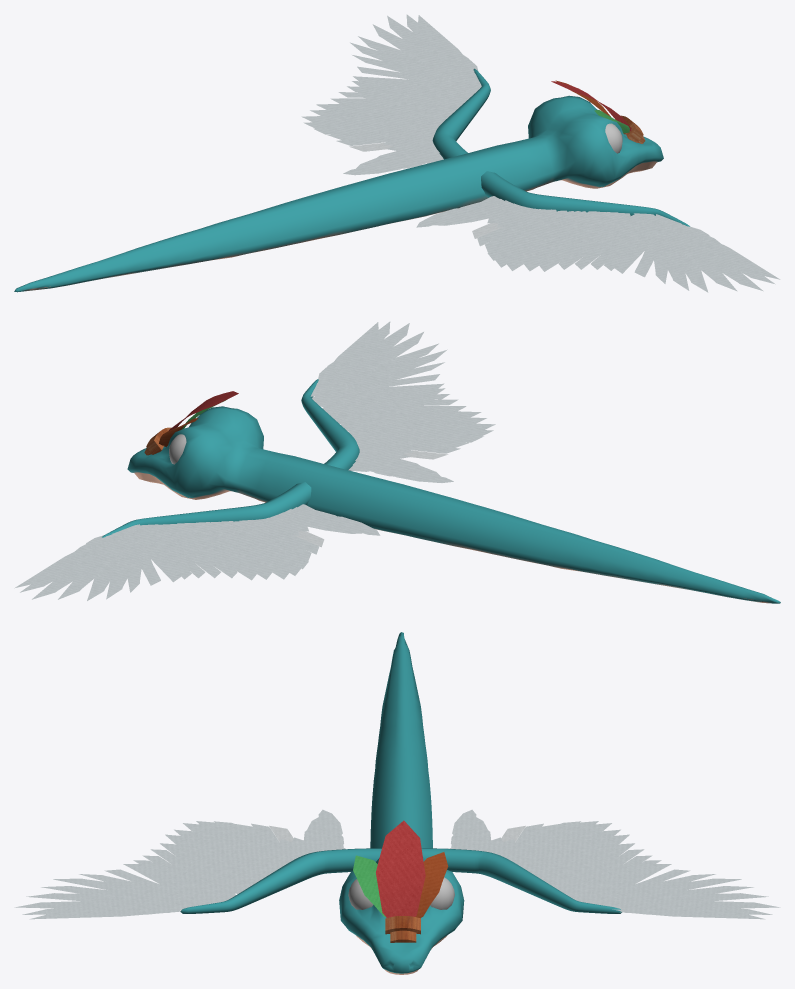
File: Mixcoatl.fbx
3 views of the same model, one above another, from view 1: azimuth 30°, elevation 25°; view 2: azimuth 150°, elevation 25°; view 3: azimuth 270°, elevation 25° (orthographic).
Visible parts, largest first — view 1: Mixcoatl_low, Wing_low, Plane.074, Plane.055, Plane.057, Plane.076, Plane.026, Plane.053, Plane.067, Plane.095, Plane.093, Plane.065 (+2 smaller); view 2: Mixcoatl_low, Wing_low, Plane.074, Plane.055, Plane.076, Plane.057, Plane.053, Plane.026, Plane.095, Plane.067, Plane.093, Plane.065 (+2 smaller); view 3: Mixcoatl_low, Wing_low, Plane.001, Plane.002, Sphere, Plane.003, Plane.074, Plane.055, Plane.076, Plane.057, Plane.026, Plane.053.
Part boxes in pixels (<box>): Mixcoatl_low: <box>14,95,663,292</box>; Wing_low: <box>432,68,689,226</box>; Plane.074: <box>667,237,737,291</box>; Plane.055: <box>372,24,448,76</box>; Plane.057: <box>350,42,444,80</box>; Plane.076: <box>654,237,689,290</box>; Plane.026: <box>697,243,775,284</box>; Plane.053: <box>406,14,453,61</box>; Plane.067: <box>301,114,388,122</box>; Plane.095: <box>506,237,558,270</box>; Plane.093: <box>539,239,591,271</box>; Plane.065: <box>316,102,398,110</box>; Mixcoatl_low: <box>127,406,780,603</box>; Wing_low: <box>102,379,359,537</box>; Plane.074: <box>347,332,423,383</box>; Plane.055: <box>58,545,127,599</box>; Plane.076: <box>351,349,447,388</box>; Plane.057: <box>106,545,140,599</box>; Plane.053: <box>20,552,97,592</box>; Plane.026: <box>342,321,390,368</box>; Plane.095: <box>408,422,495,430</box>; Plane.067: <box>238,546,289,579</box>; Plane.093: <box>398,410,481,417</box>; Plane.065: <box>204,547,257,580</box>; Mixcoatl_low: <box>339,632,464,974</box>; Wing_low: <box>180,848,621,913</box>; Plane.001: <box>375,820,425,917</box>; Plane.002: <box>415,852,448,918</box>; Sphere: <box>348,877,454,909</box>; Plane.003: <box>353,855,385,917</box>; Plane.074: <box>26,893,173,904</box>; Plane.055: <box>621,893,768,904</box>; Plane.076: <box>53,878,179,897</box>; Plane.057: <box>615,878,741,897</box>; Plane.026: <box>22,904,142,914</box>; Plane.053: <box>652,904,772,914</box>.
Bounding box in the file's own units: 409 × 63.68 × 413.
